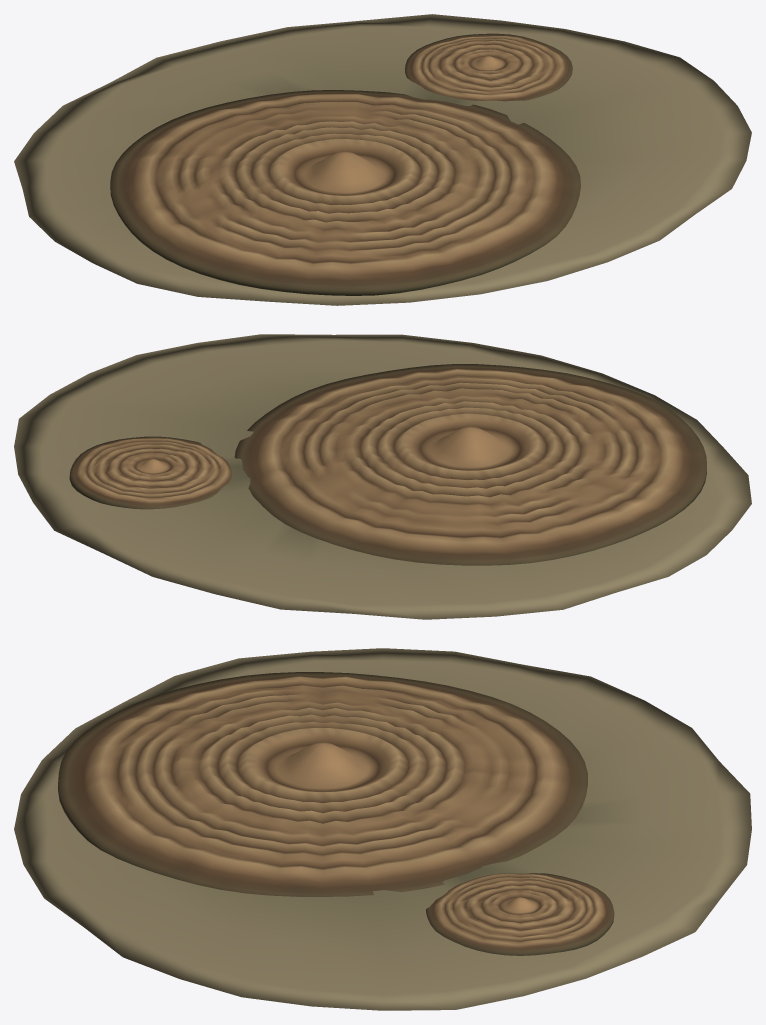
Rendered from Cyclomedusa.fbx.
3 renders of one model, top to bottom at view 1: azimuth 30°, elevation 25°; view 2: azimuth 150°, elevation 25°; view 3: azimuth 270°, elevation 25°, orthographic. The views are drawn at different scales.
Visible parts, largest first — view 1: Cyclomedusa; view 2: Cyclomedusa; view 3: Cyclomedusa.
Boxes of the visible parts, box(x1,y1,x2,y2) form: Cyclomedusa: box(14, 14, 751, 305); Cyclomedusa: box(14, 334, 751, 619); Cyclomedusa: box(14, 648, 751, 1010).
Bounding box in the file's own units: 2 × 0.1259 × 1.72.
